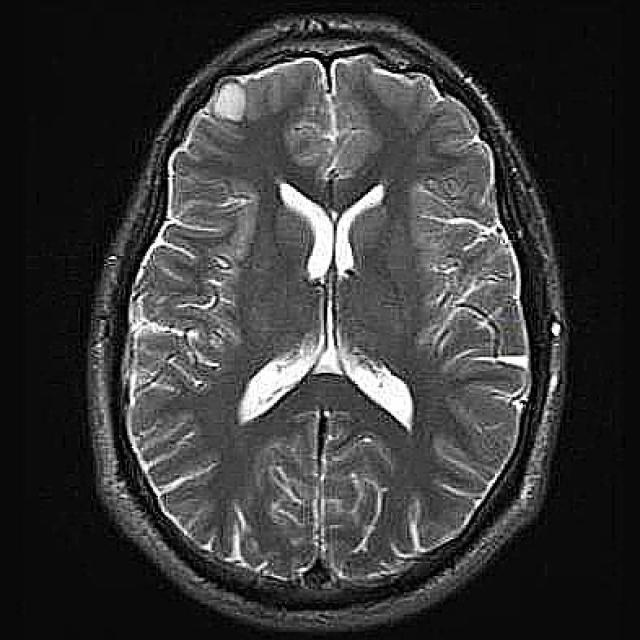notumor: (86, 16, 568, 635)
